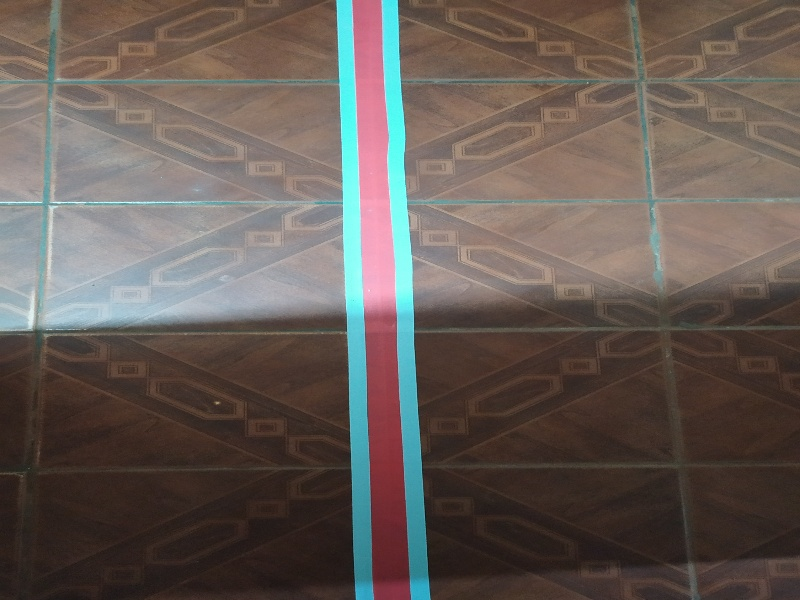reta: (335, 4, 435, 600)
